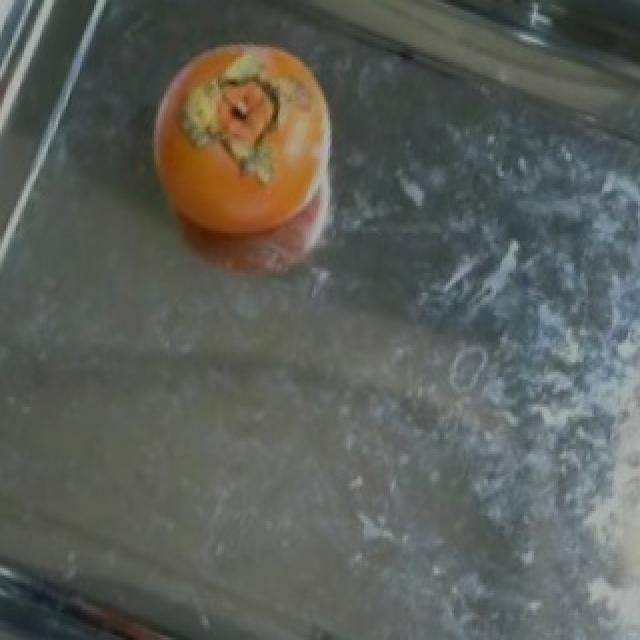Fruit: (124, 20, 364, 305)
